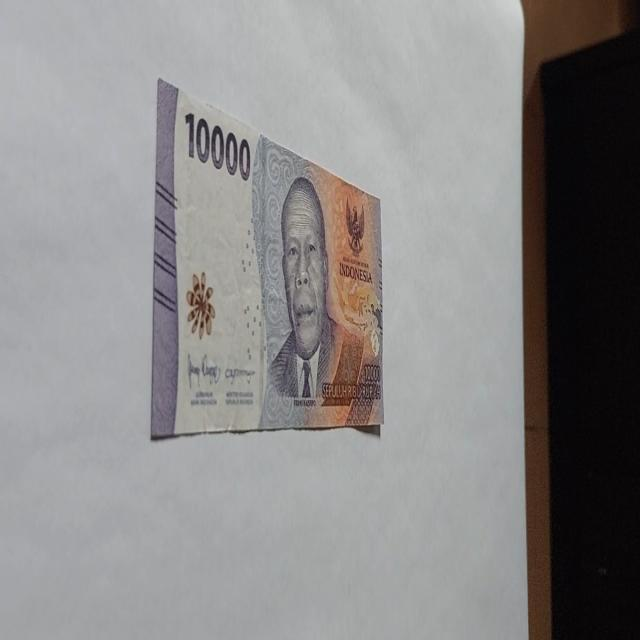sepuluh ribu rupiah: (150, 76, 386, 441), (258, 172, 370, 430)
